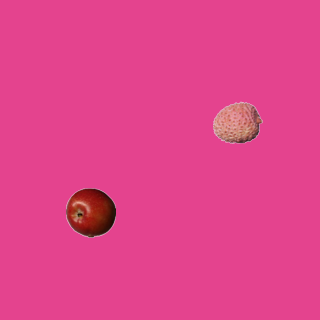Apple Braeburn: (65, 187, 115, 237)
Lychee: (212, 97, 262, 147)
